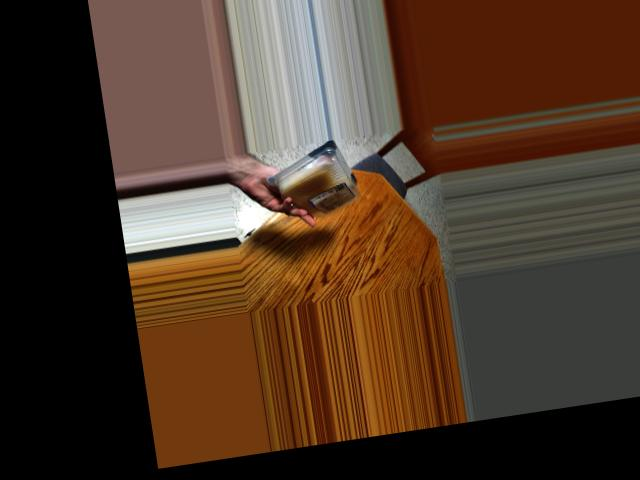cheese: (273, 143, 361, 221)
